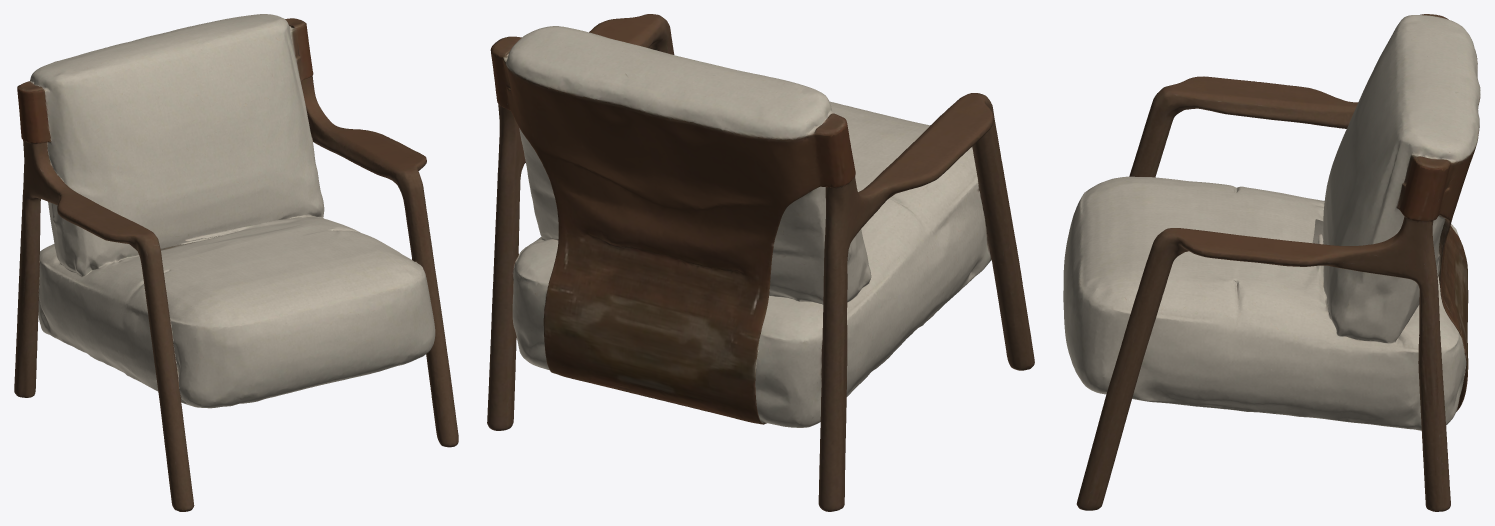
File: modern_upholstered_lounge_chair_viewed_armchair_5brsxg.glb
3 renders of one model, left to right at view 1: azimuth 30°, elevation 25°; view 2: azimuth 150°, elevation 25°; view 3: azimuth 270°, elevation 25°, orthographic. The views are drawn at different scales.
Visible parts, largest first — view 1: world; view 2: world; view 3: world.
Part boxes in pixels (x1,y1,x2,y2): world: (14, 14, 458, 511); world: (487, 14, 1034, 511); world: (1063, 14, 1480, 511).
Size of the model in its own units: 0.9971 by 0.9587 by 1.
Materials: 1 (1 with a texture image).
